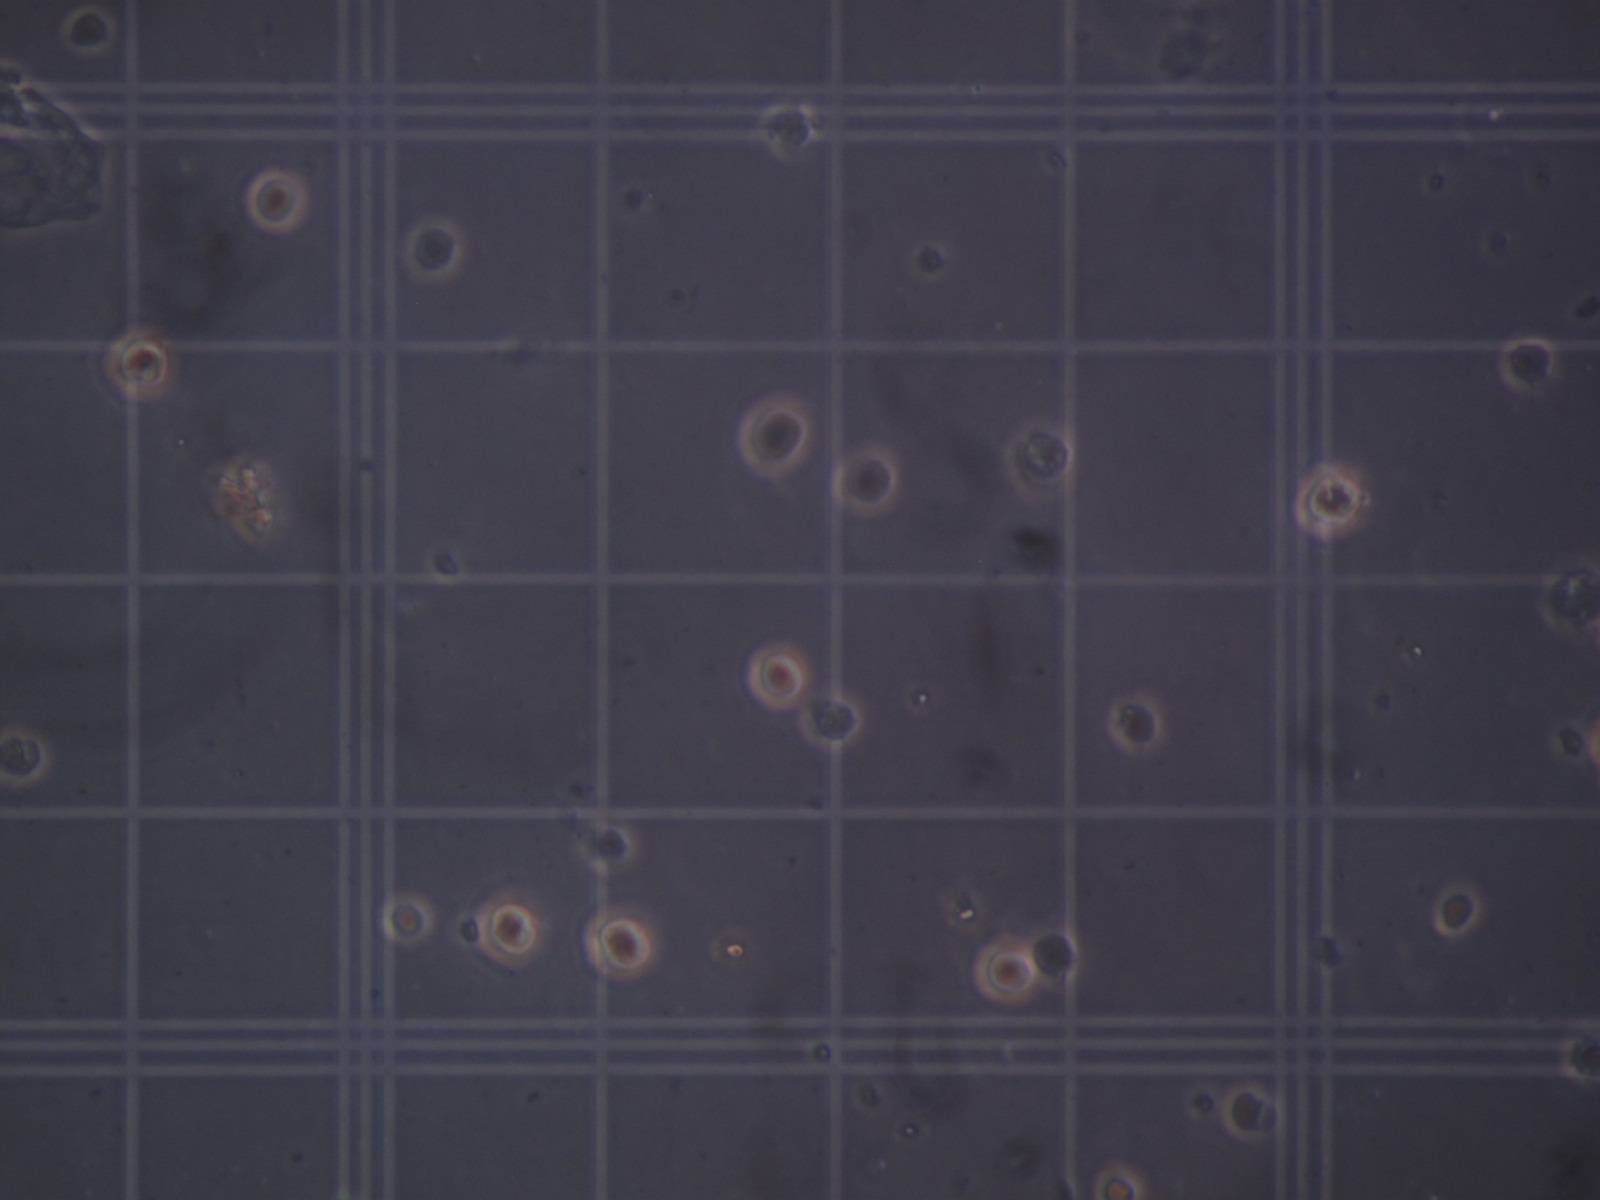hemo: (737, 395, 813, 476), (1002, 421, 1076, 500), (583, 905, 656, 981), (103, 326, 176, 401), (1294, 464, 1364, 539), (475, 889, 542, 967), (1540, 556, 1599, 637), (831, 446, 900, 514), (973, 942, 1038, 1005), (747, 642, 808, 710), (244, 170, 307, 233), (404, 218, 464, 281), (1222, 1083, 1284, 1142), (1498, 334, 1557, 395), (800, 691, 862, 747), (760, 101, 816, 163), (1107, 695, 1163, 753), (1028, 926, 1080, 988), (60, 5, 116, 55), (382, 892, 432, 945), (1, 730, 48, 787), (585, 821, 636, 871), (1432, 885, 1480, 937), (1561, 1027, 1600, 1084), (427, 542, 465, 584), (1094, 1167, 1141, 1199), (1589, 710, 1600, 775)
